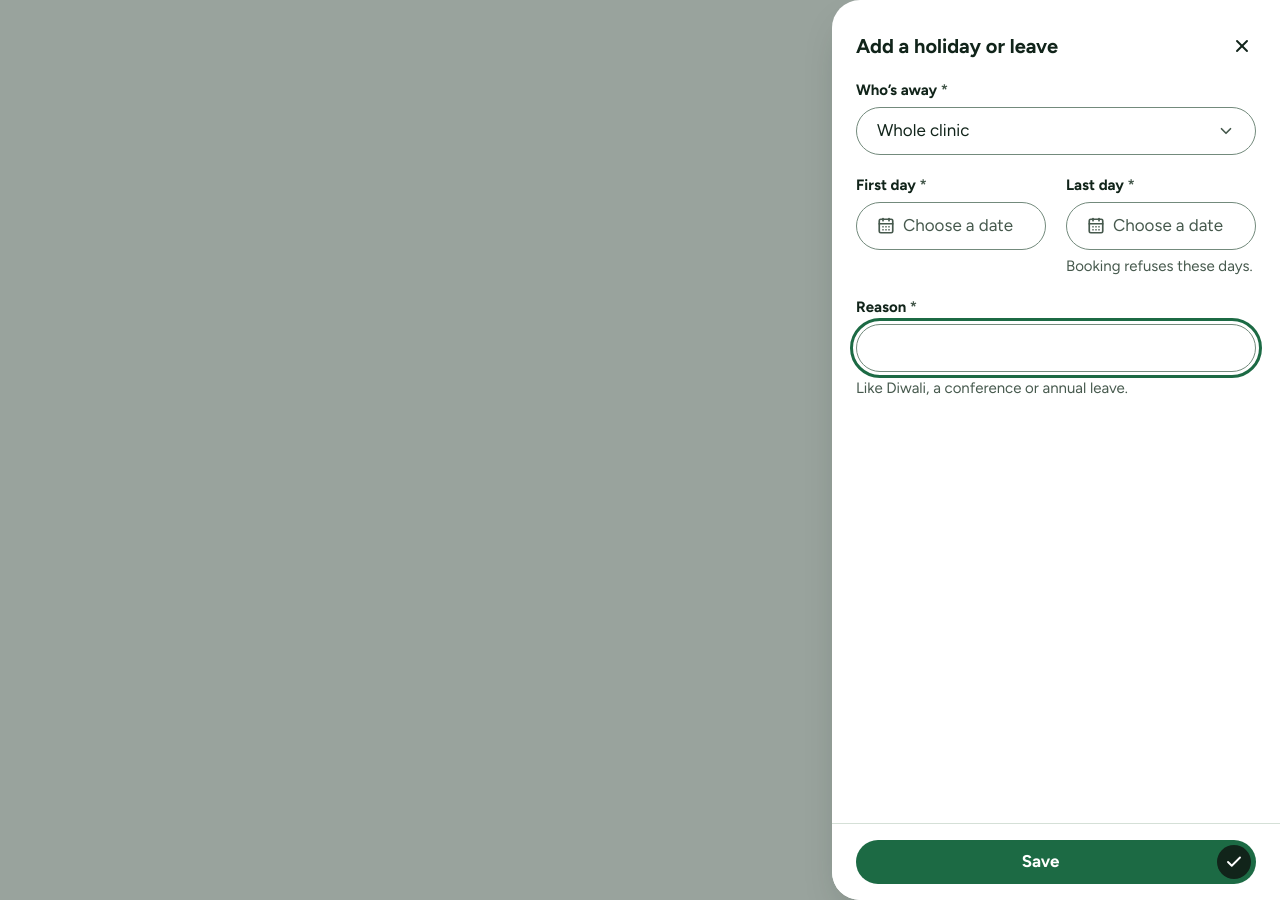
Test: ClosureSheet (plan §9, D85) › says why it could not, and keeps what was typed
Click the button named "First day" at (951, 226), box [856, 202, 1046, 250]
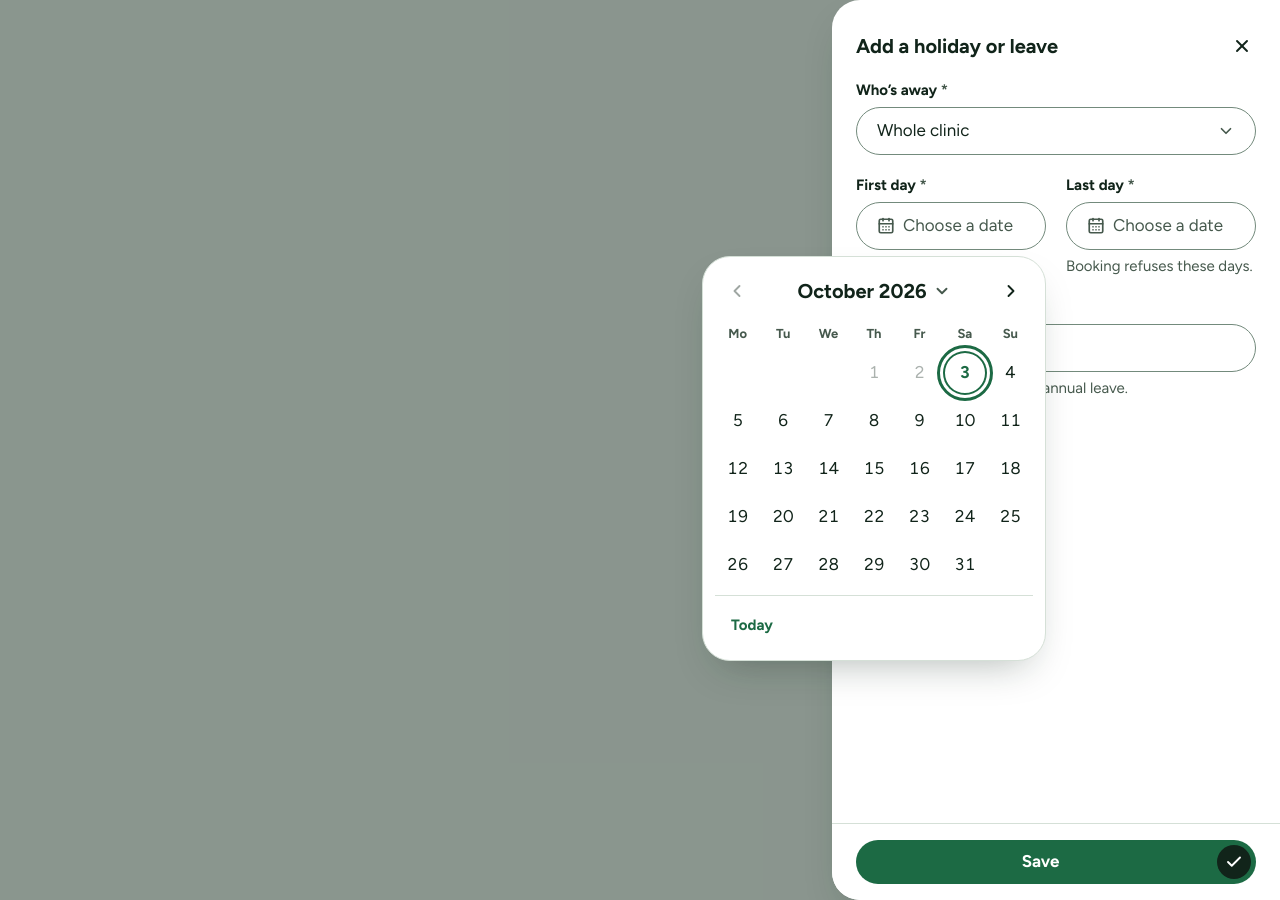
Click the button named "Tuesday, 20 Oct 2026" at (783, 516), box [761, 494, 805, 538]
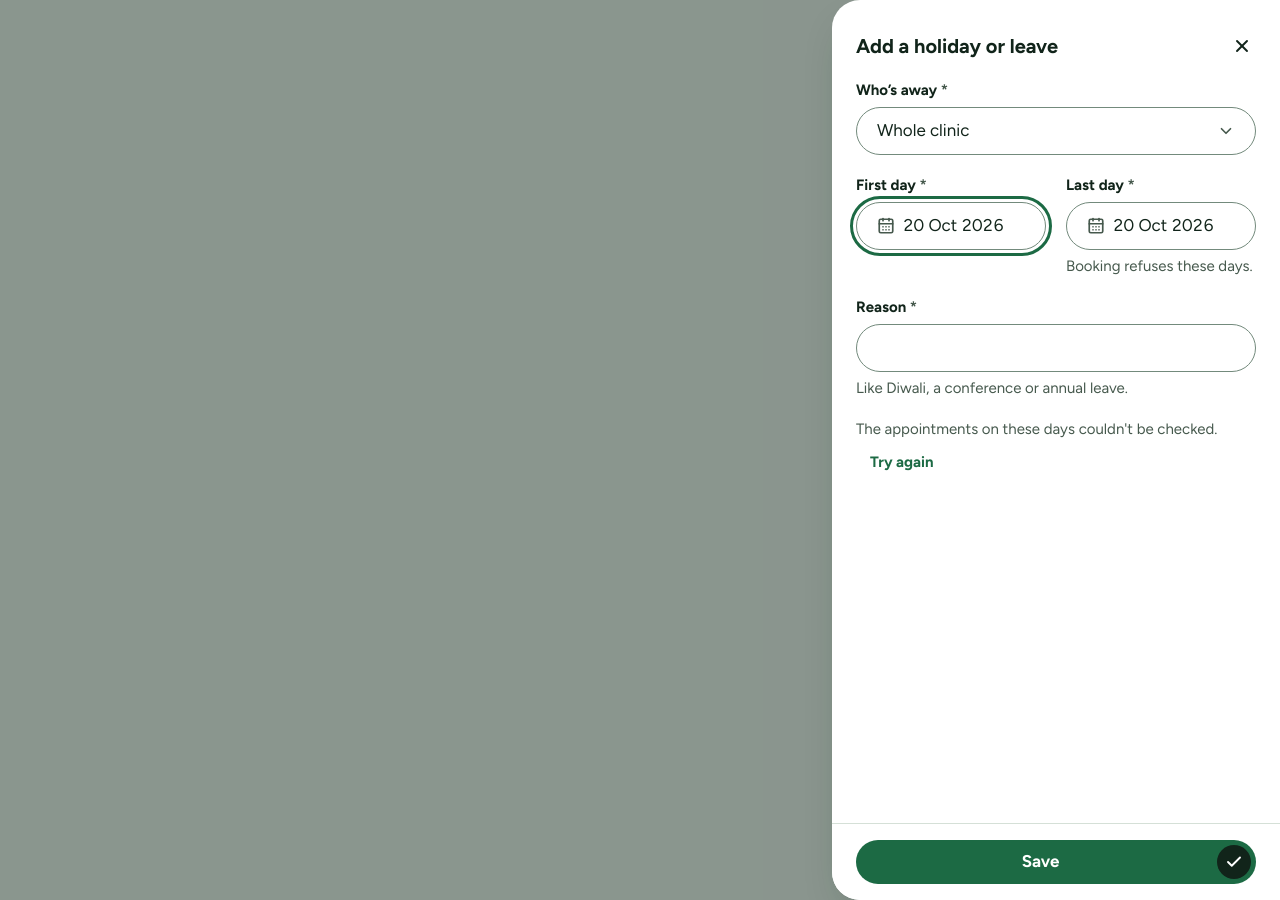
Type "Puja" into the field labelled "Reason *" at (1056, 348), box [856, 324, 1256, 372]
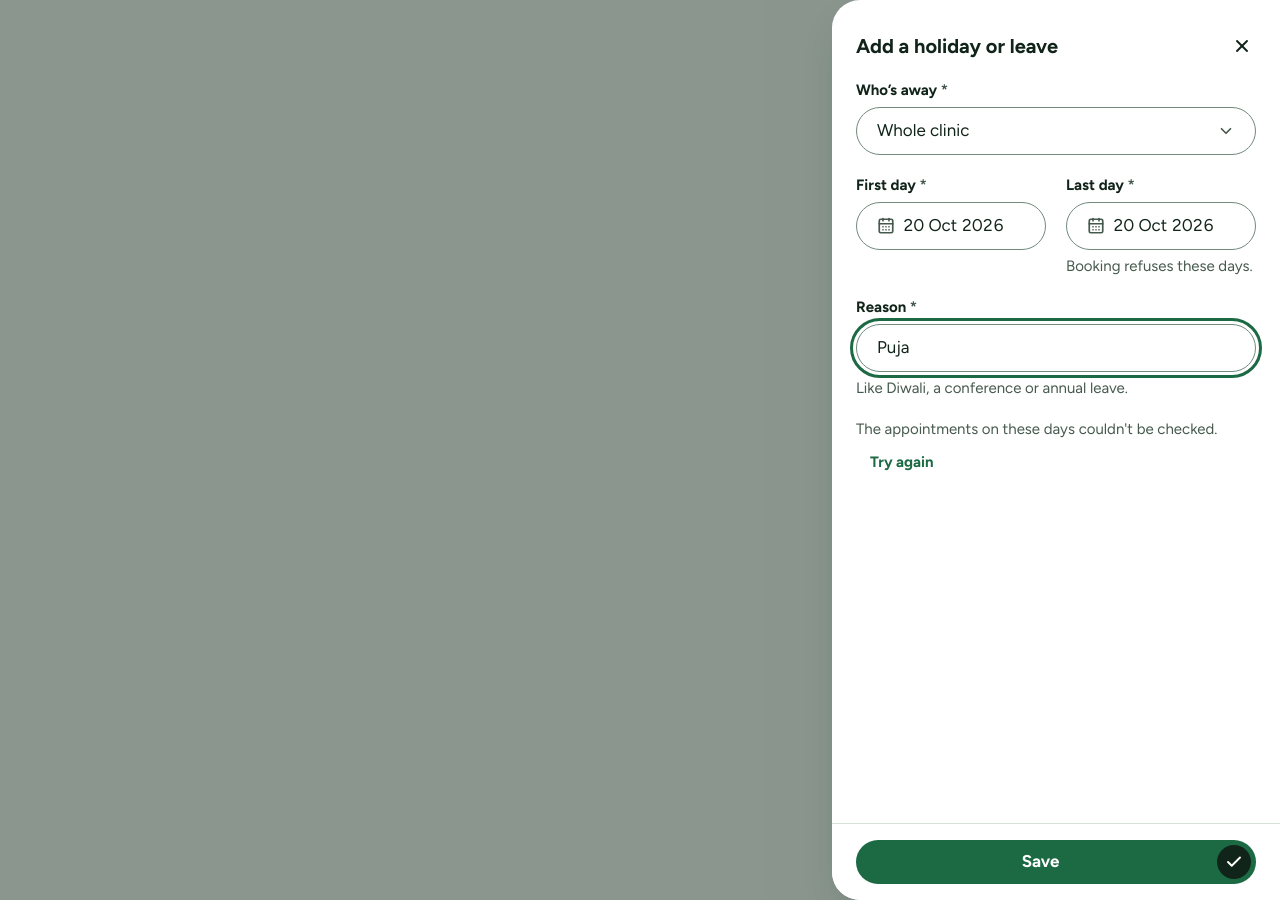
Click the button "Save" at (1056, 862), box [856, 840, 1256, 884]
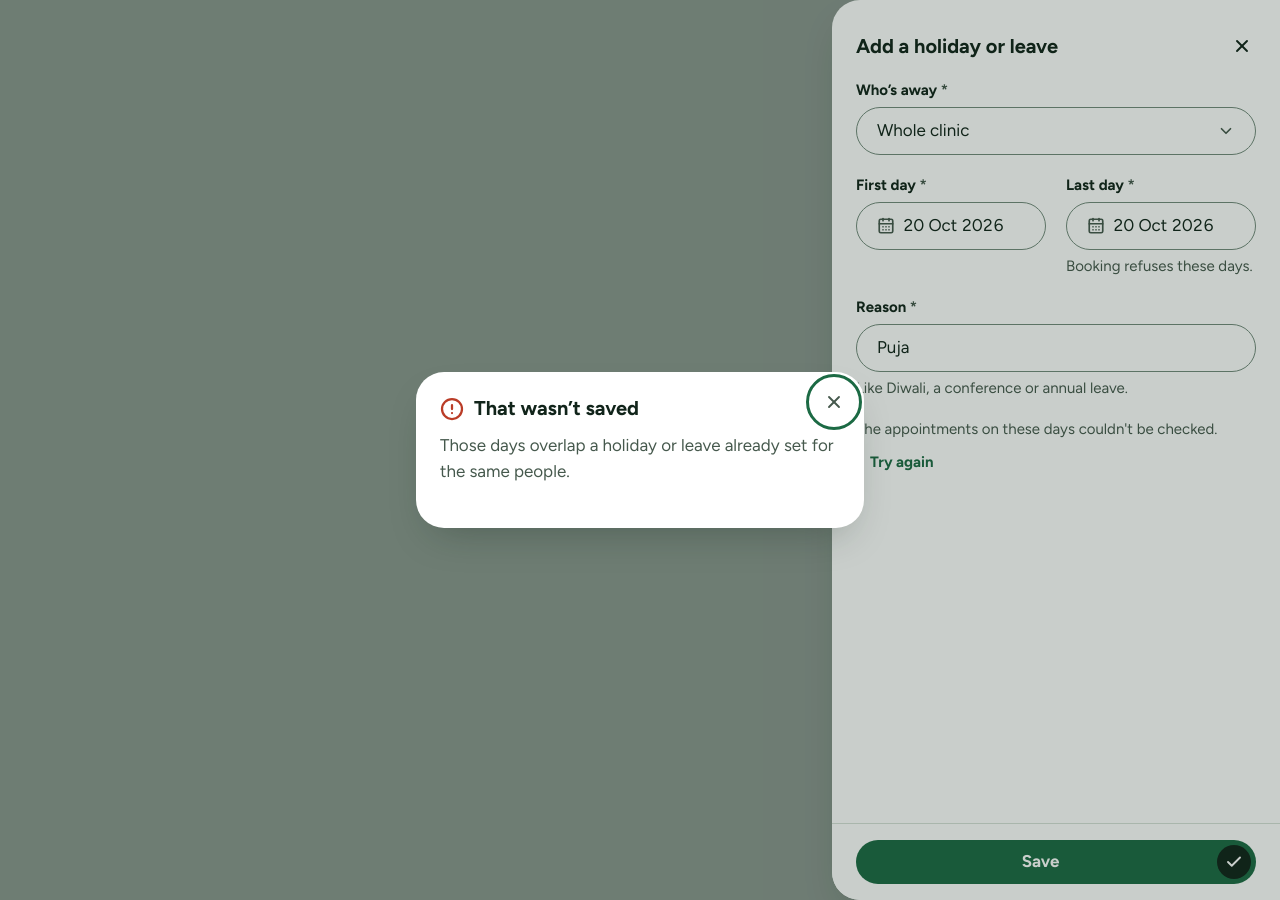
Expected: the dialog "That wasn’t saved" shows "Those days overlap", [440, 435, 834, 480]
